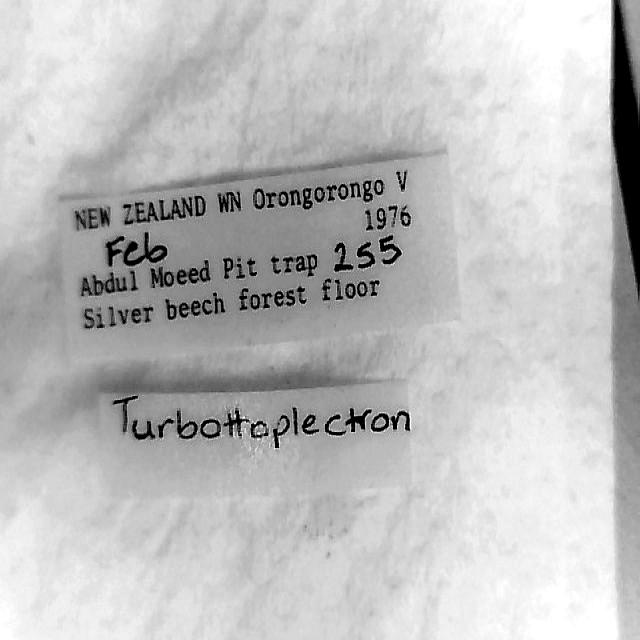hand_label: (100, 382, 410, 494)
mixed_label: (60, 153, 455, 362)
